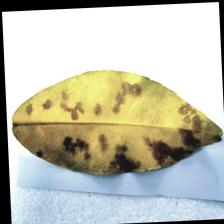canker: (48, 94, 216, 174)
